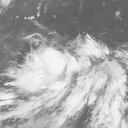cyclone: (13, 47, 100, 117)
